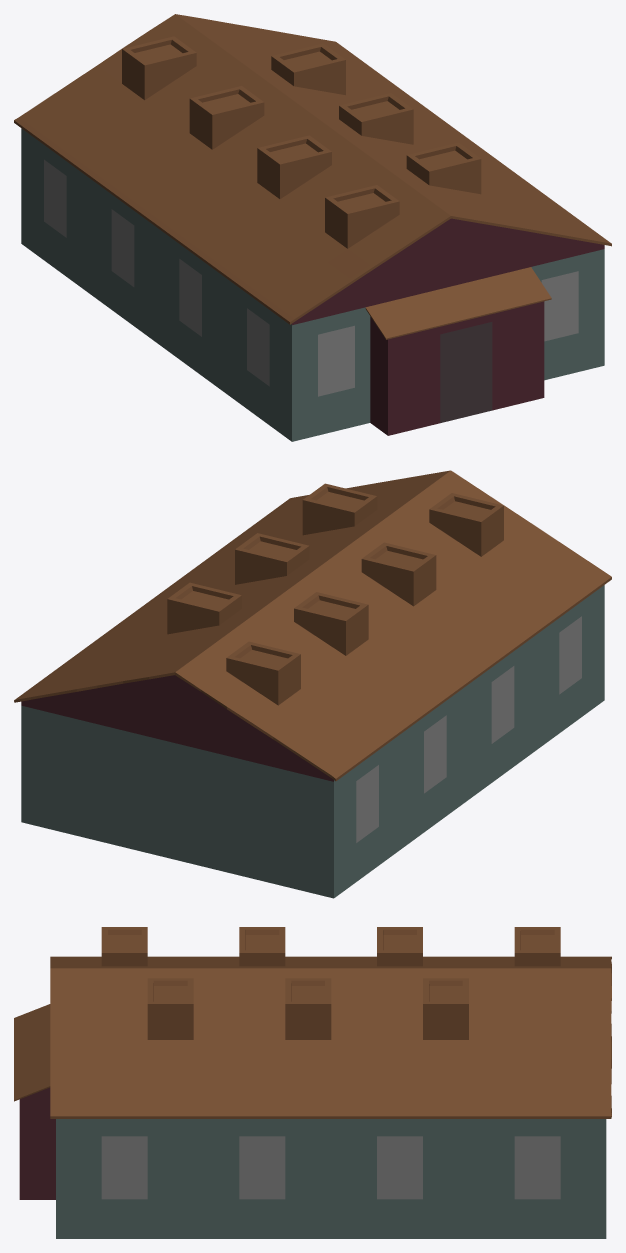
Rendered from Barrack.glb.
The picture shows the model from 3 angles, top to bottom: view 1: azimuth 30°, elevation 25°; view 2: azimuth 150°, elevation 25°; view 3: azimuth 270°, elevation 25°; orthographic projection.
Visible parts, largest first — view 1: SM_Barrack; view 2: SM_Barrack; view 3: SM_Barrack.
Part boxes in pixels (<box>): SM_Barrack: <box>14,14,611,441</box>; SM_Barrack: <box>14,470,611,898</box>; SM_Barrack: <box>14,927,611,1238</box>.
Size of the model in its own units: 2.06 by 1.18 by 3.26.
